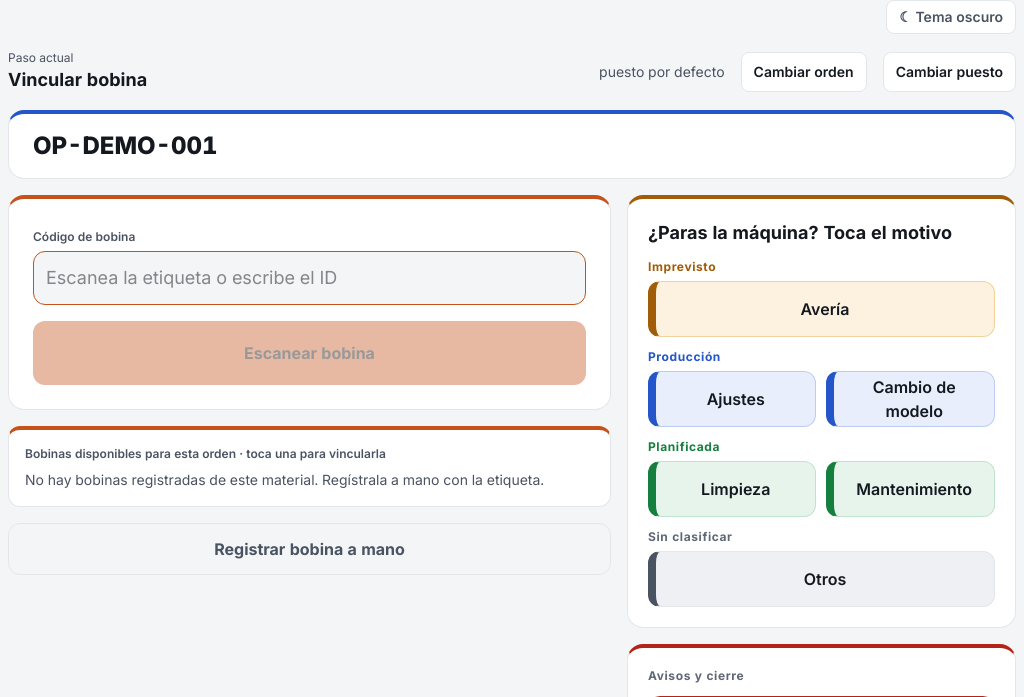
Test: Autocontrol de calidad (spec 04) › registra un autocontrol aprobado y muestra el resultado
In the field with placeholder "Escanea la etiqueta o escribe el ID": point(310, 278) x1=33 y1=251 x2=586 y2=305, type "COIL-L-DEMO"
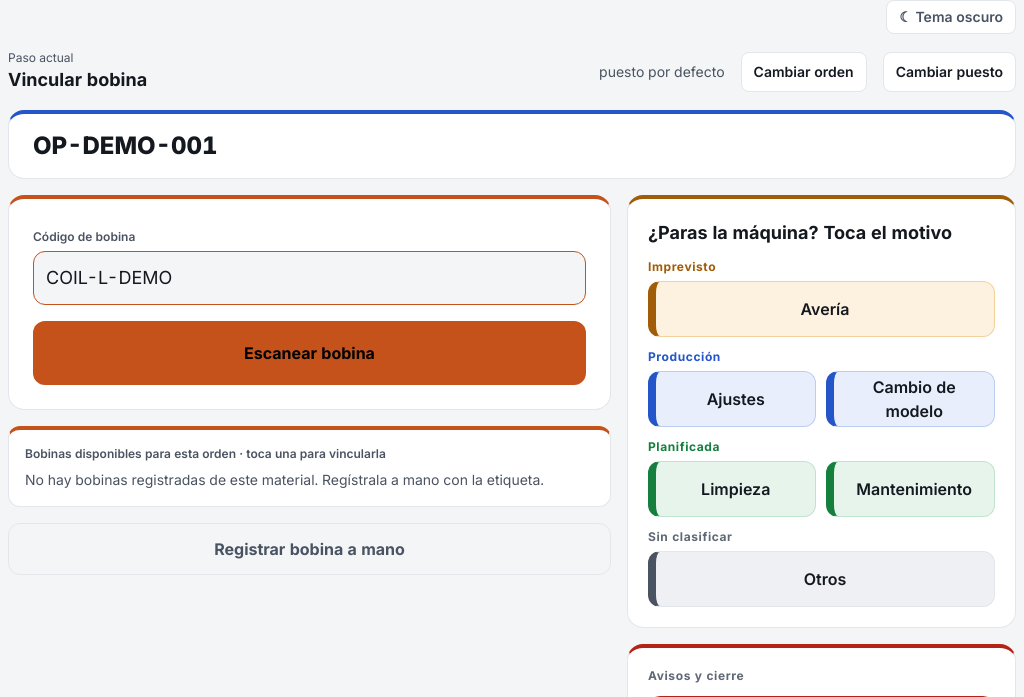
Click the button "Escanear bobina": point(310, 353) x1=33 y1=321 x2=586 y2=385
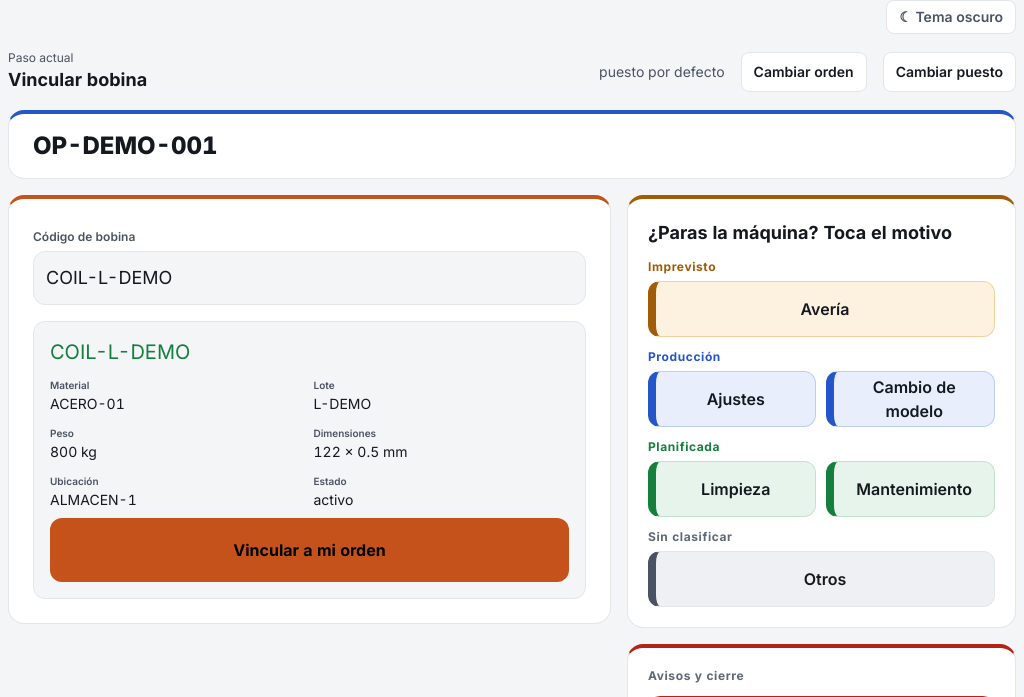
Click the button "Vincular a mi orden": point(310, 550) x1=50 y1=518 x2=569 y2=582
(page scrolled)
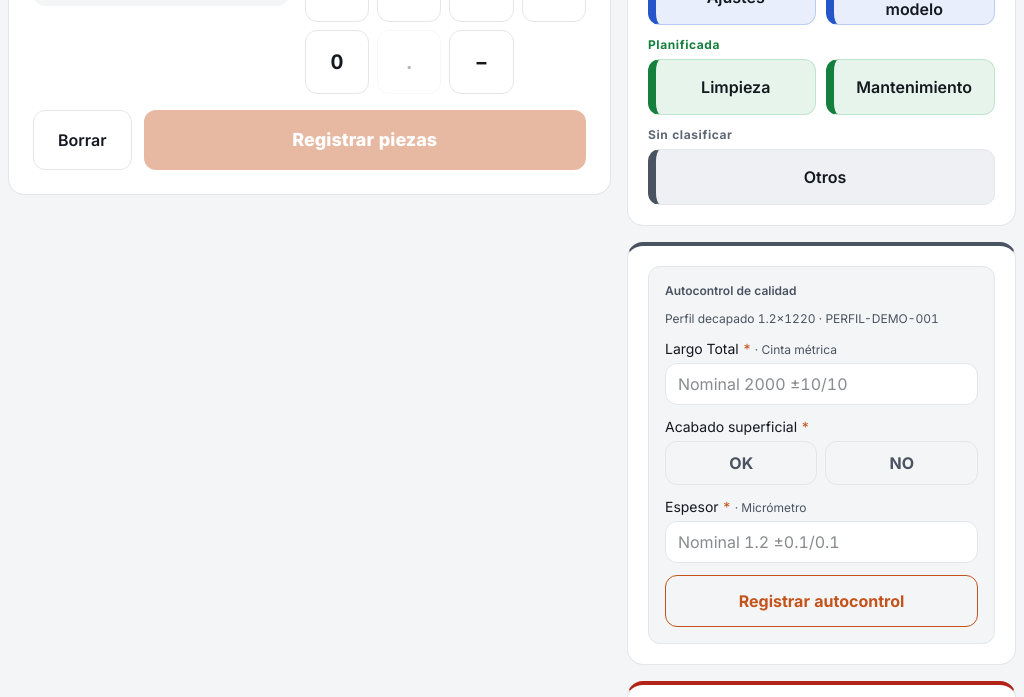
In the number field labelled "Largo Total * · Cinta métrica": point(822, 384) x1=665 y1=363 x2=978 y2=405, type "1990"
Click the button with aria-label "Aprobar Acabado superficial": point(741, 463) x1=665 y1=441 x2=818 y2=485
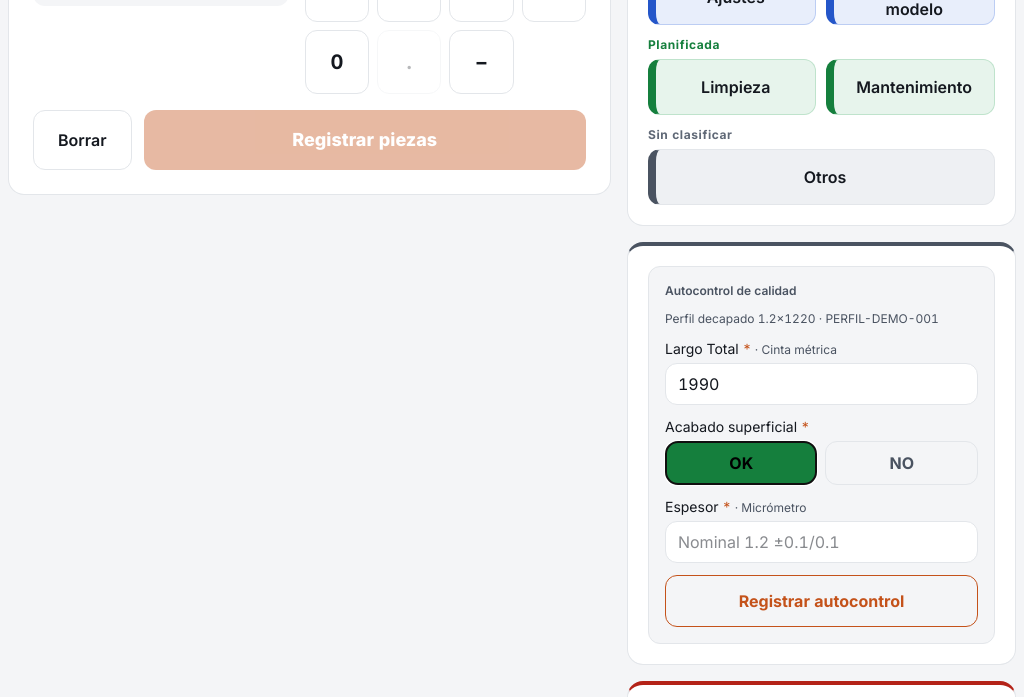
In the number field labelled "Espesor * · Micrómetro": point(822, 542) x1=665 y1=521 x2=978 y2=563, type "1.2"
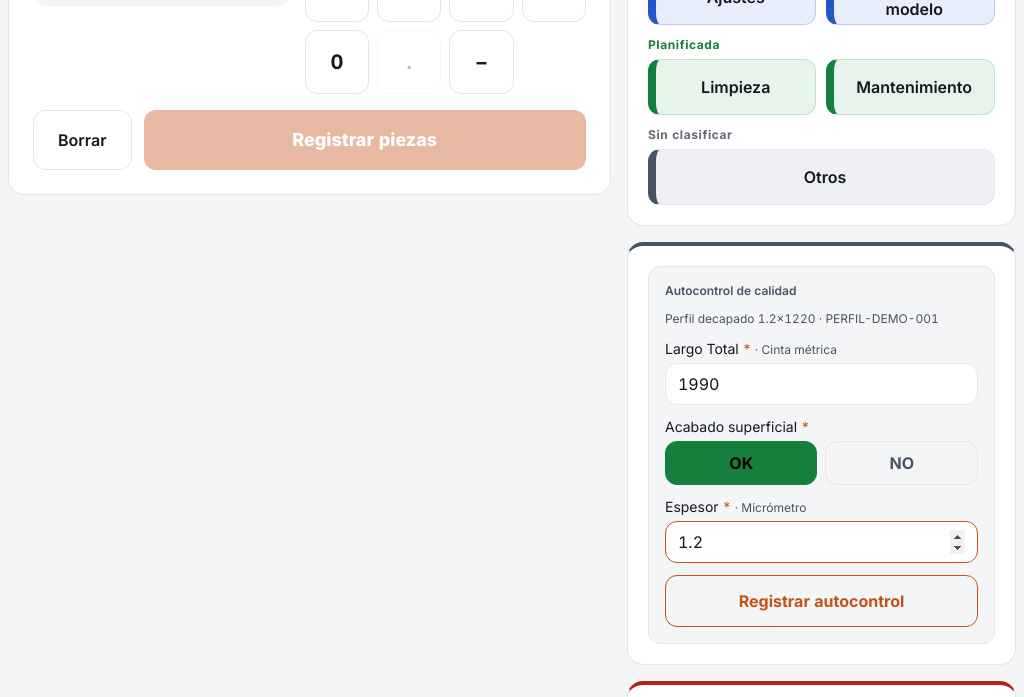
Click the button "Registrar autocontrol": point(822, 601) x1=665 y1=575 x2=978 y2=627
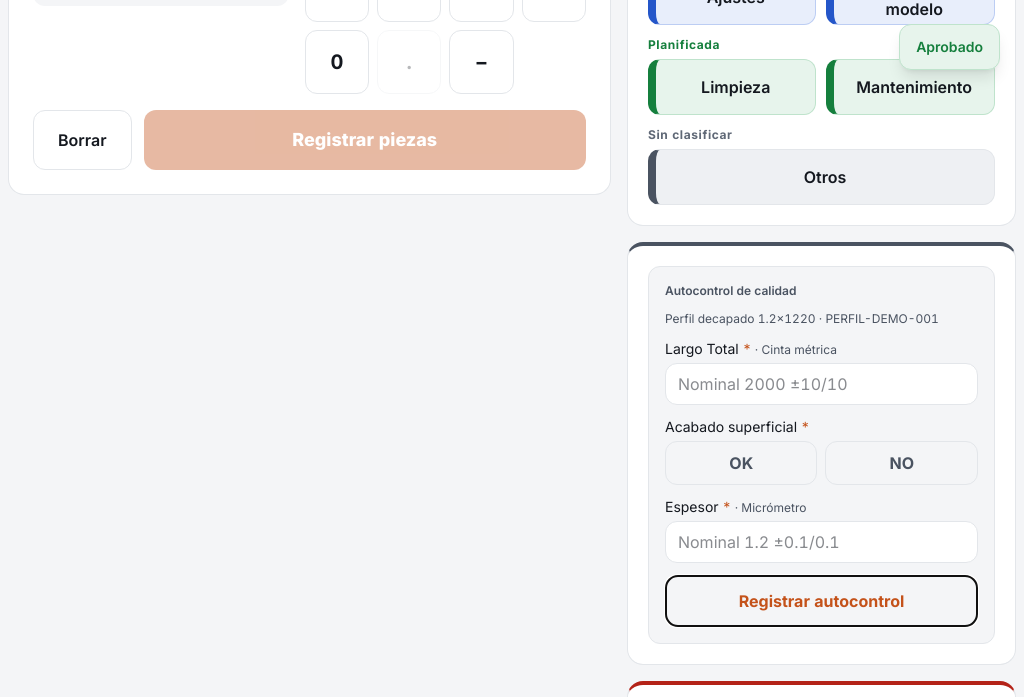
Expected: the text "Aprobado" is shown, x1=899 y1=24 x2=1000 y2=70
